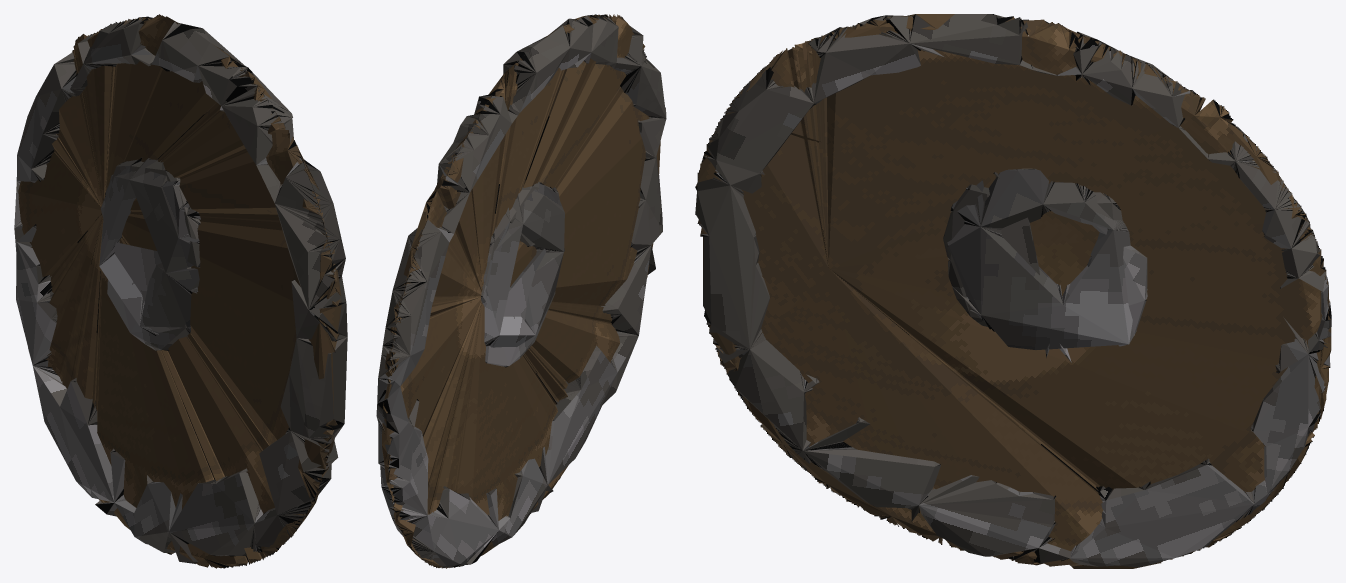
File: buckler.glb
3 views of the same model, side by side, from view 1: azimuth 30°, elevation 25°; view 2: azimuth 150°, elevation 25°; view 3: azimuth 270°, elevation 25° (orthographic). The views are drawn at different scales.
Visible parts, largest first — view 1: face, plate, boss; view 2: face, plate, boss; view 3: face, plate, boss.
Part boxes in pixels (x1,y1,x2,y2): face: (18, 14, 341, 568); plate: (14, 16, 347, 563); boss: (99, 158, 200, 335); face: (382, 14, 660, 568); plate: (376, 14, 666, 567); boss: (483, 181, 564, 347); face: (695, 14, 1331, 568); plate: (695, 14, 1331, 567); boss: (947, 169, 1136, 349).
Bounding box in the file's own units: 0.0584 × 0.4746 × 0.4933.
2 materials, 2 textured.
